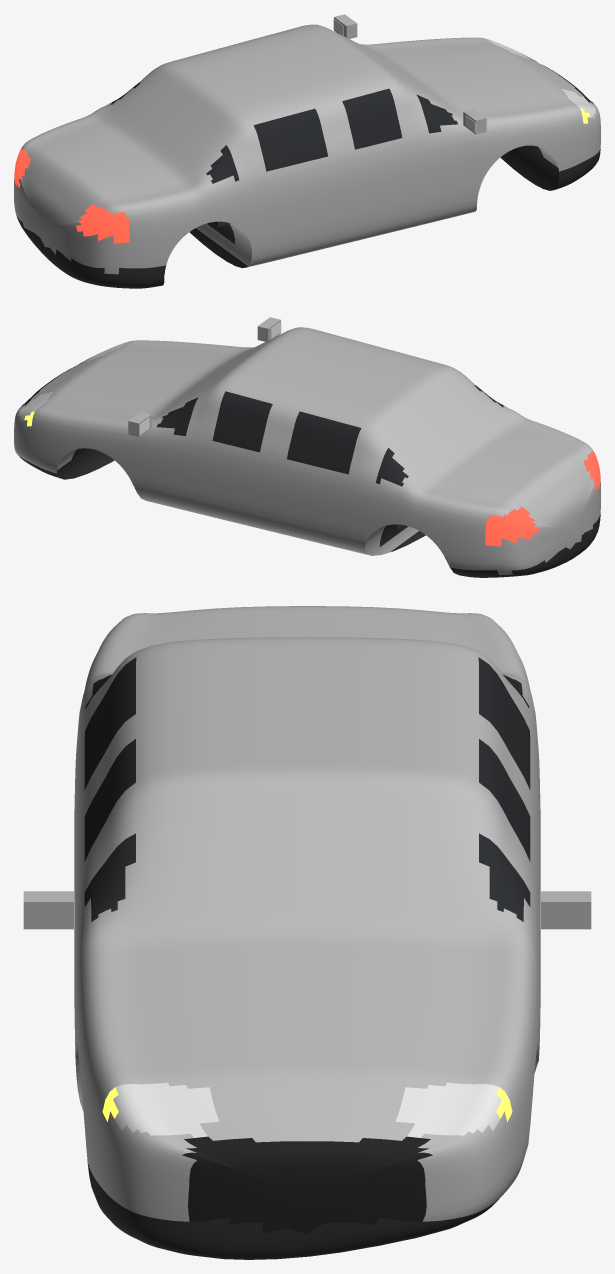
File: SM_VB_Car_Sedan.fbx
3 views of the same model, one above another, from view 1: azimuth 30°, elevation 25°; view 2: azimuth 150°, elevation 25°; view 3: azimuth 270°, elevation 25° (orthographic). The views are drawn at different scales.
Parts seen in each view (by area): view 1: SM_VB_Car_Sedan; view 2: SM_VB_Car_Sedan; view 3: SM_VB_Car_Sedan.
Part boxes in pixels (left/top/right/bottom): SM_VB_Car_Sedan: left=14, top=14, right=600, bottom=288; SM_VB_Car_Sedan: left=14, top=317, right=600, bottom=577; SM_VB_Car_Sedan: left=23, top=606, right=591, bottom=1259.
Bounding box in the file's own units: 4.84 × 1.3 × 2.26.
